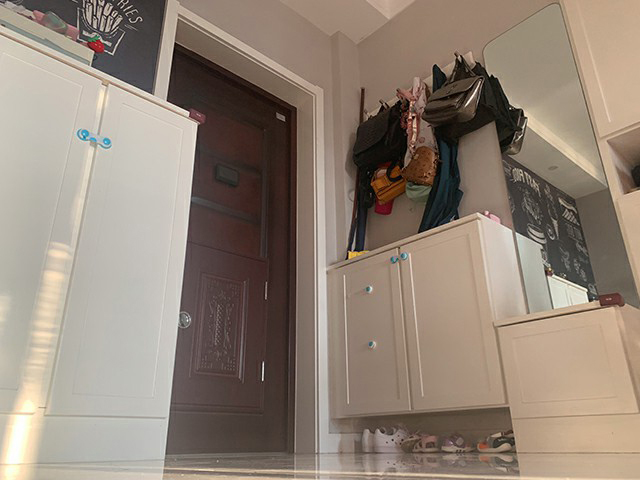cabinet: (1, 24, 204, 466), (493, 293, 640, 456)
